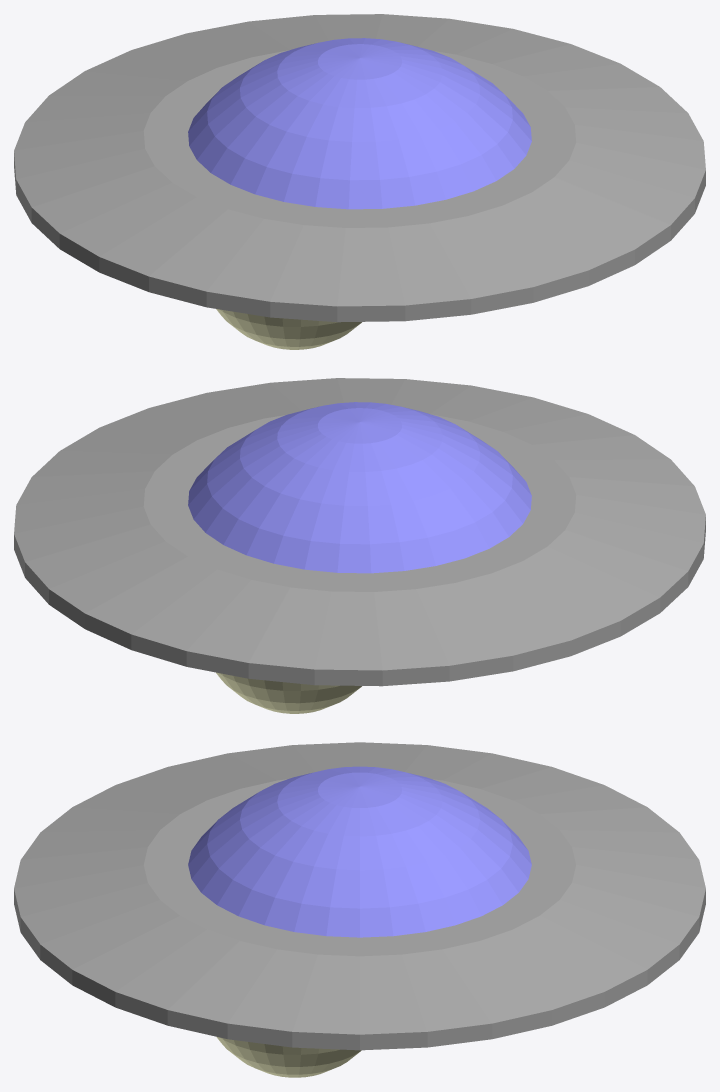
The model's file is UFO.fbx.
The picture shows the model from 3 angles, top to bottom: view 1: azimuth 30°, elevation 25°; view 2: azimuth 150°, elevation 25°; view 3: azimuth 270°, elevation 25°; orthographic projection.
Visible parts, largest first — view 1: UFO; view 2: UFO; view 3: UFO.
Boxes of the visible parts, x1=… form: UFO: x1=14, y1=14, x2=705, y2=349; UFO: x1=14, y1=378, x2=705, y2=713; UFO: x1=14, y1=742, x2=705, y2=1077.
Size of the model in its own units: 16 by 6 by 16.
